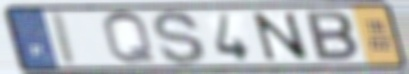4: (211, 10, 255, 64)
B: (303, 9, 362, 63)
I: (51, 9, 81, 69)
N: (249, 11, 314, 63)
Q: (100, 9, 160, 67)
S: (150, 8, 209, 67)
